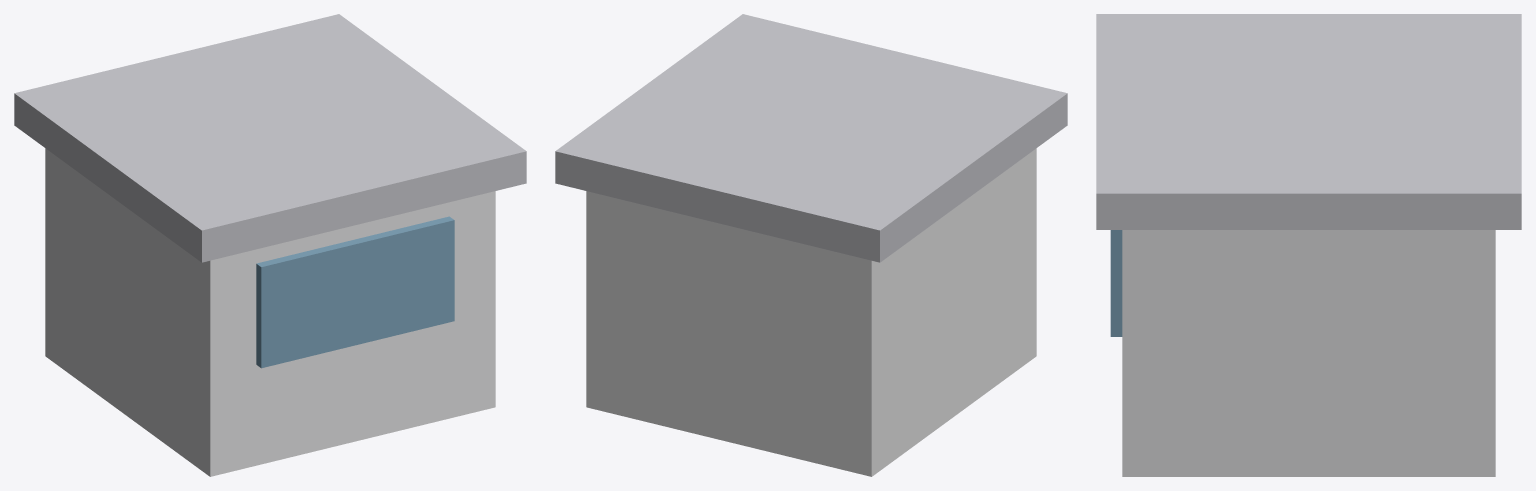
File: guarita.glb
3 views of the same model, side by side, from view 1: azimuth 30°, elevation 25°; view 2: azimuth 150°, elevation 25°; view 3: azimuth 270°, elevation 25° (orthographic). The views are drawn at different scales.
Bounding box in the file's own units: 7.4 × 5.65 × 7.4.
